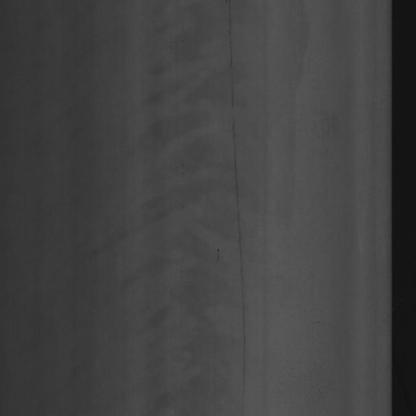inclusion: (226, 9, 252, 404)
water_spot: (137, 25, 217, 401)
